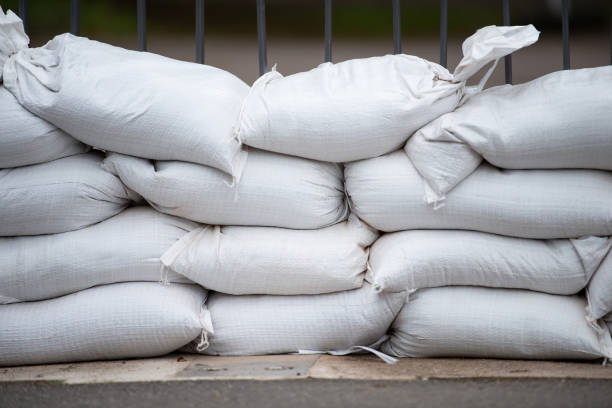sandbag: (0, 8, 248, 181), (239, 25, 539, 163), (405, 66, 612, 205), (345, 153, 612, 239), (106, 149, 346, 229), (0, 208, 199, 304), (0, 284, 206, 366), (163, 217, 378, 295), (383, 288, 612, 360), (368, 231, 612, 295), (201, 287, 406, 356), (0, 154, 138, 236), (0, 90, 85, 166), (584, 255, 612, 324)
